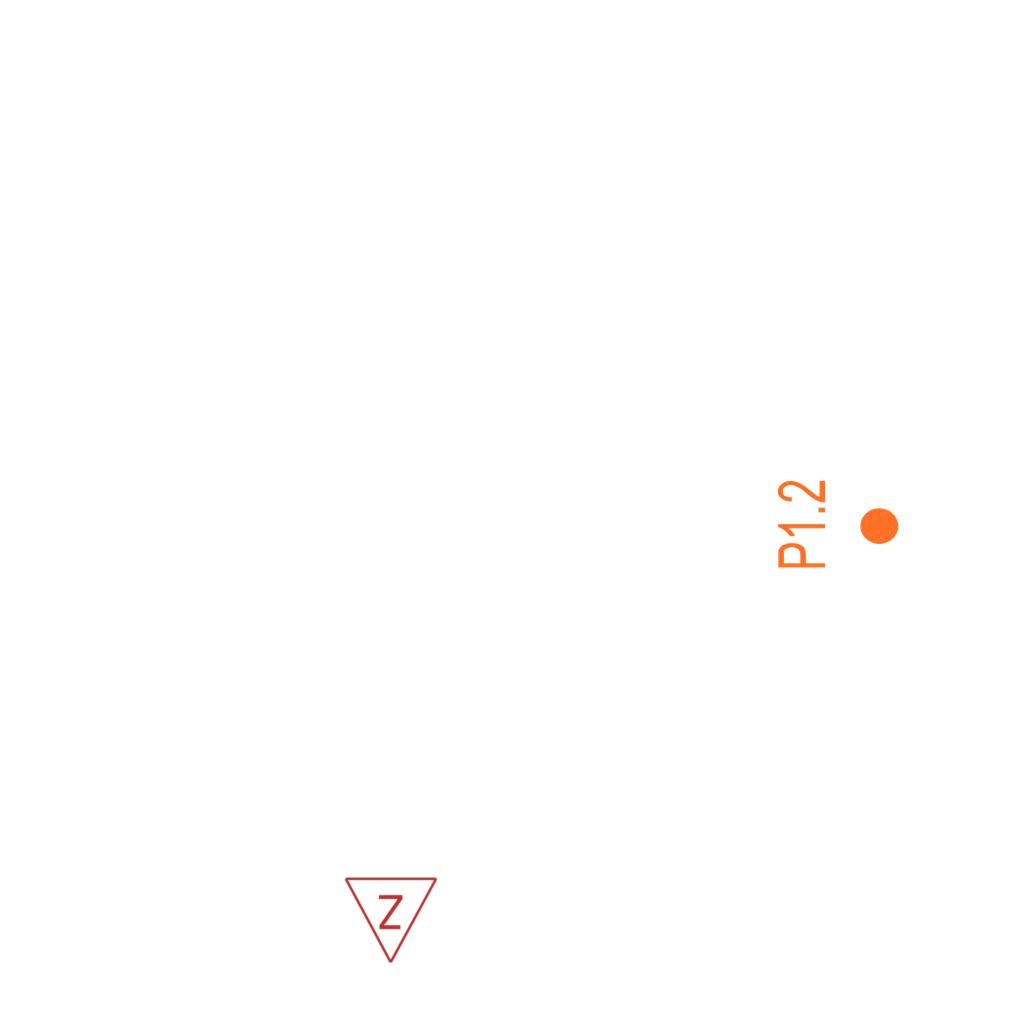Downlight_LED_Einbauleuchten_Flur: (774, 478, 902, 571)
Zimmersignalleuchte: (343, 870, 441, 970)
